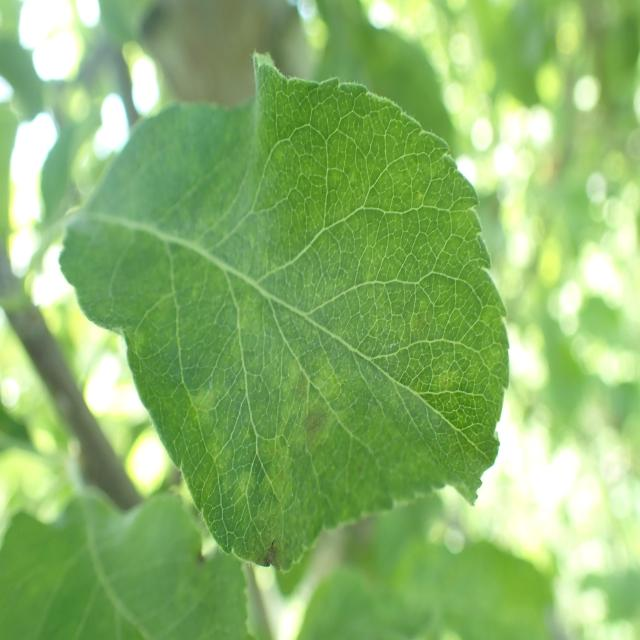scab: (85, 161, 419, 594)
